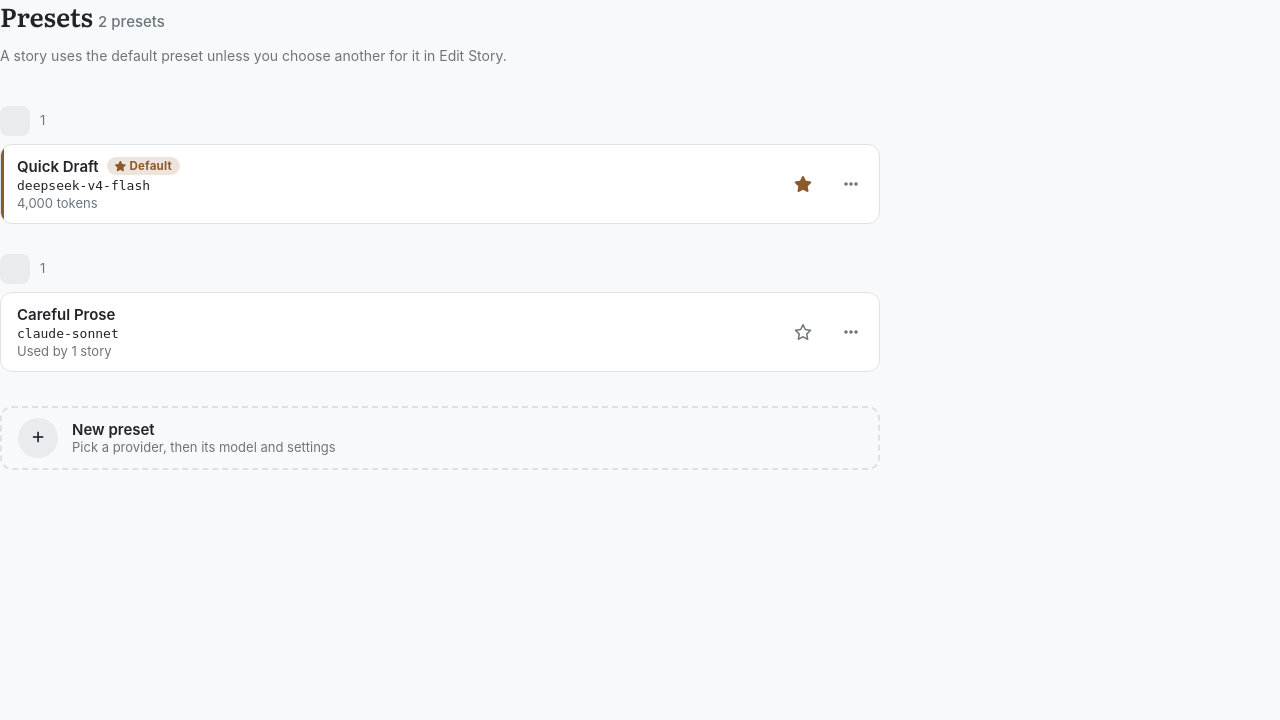
PresetList › keeps the default preset from being deleted
Click the button named "More actions for Quick Draft" at coordinates (851, 184), box x1=829 y1=162 x2=873 y2=206
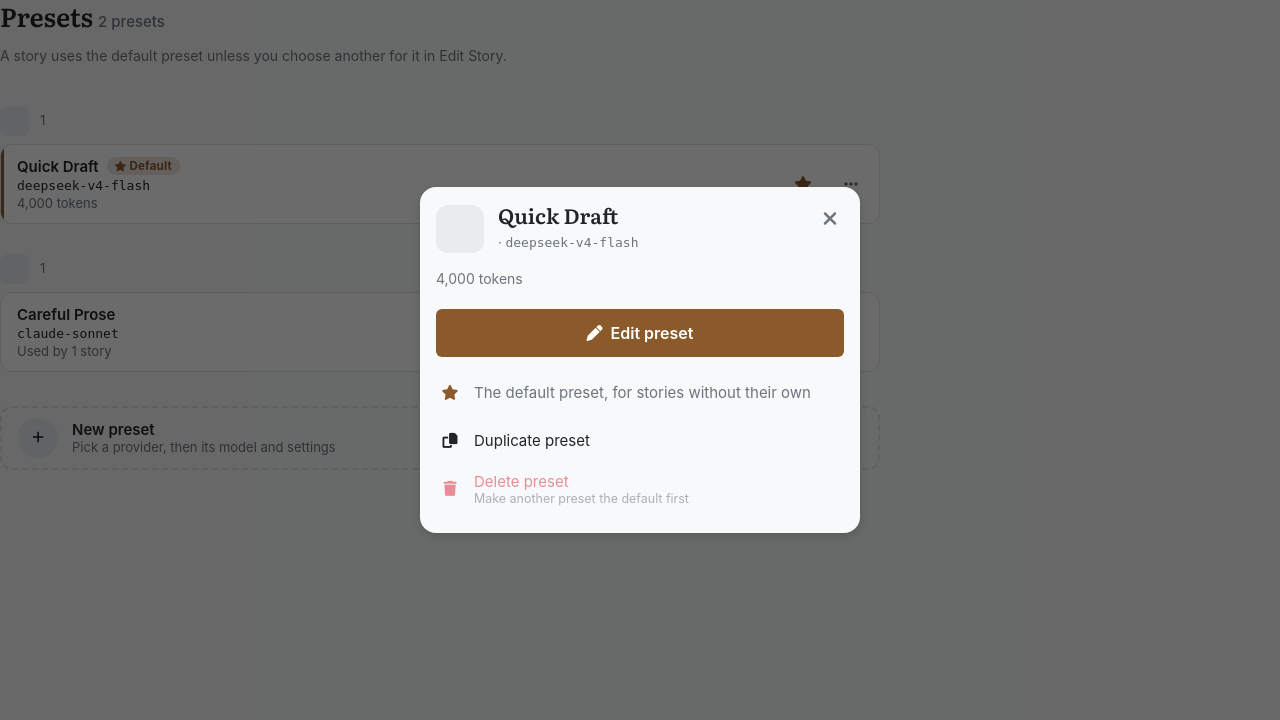
Now the button with class "danger" is disabled, box x1=436 y1=465 x2=844 y2=513
Now the element with class "is-default" shows "The default preset", box x1=474 y1=383 x2=811 y2=402
